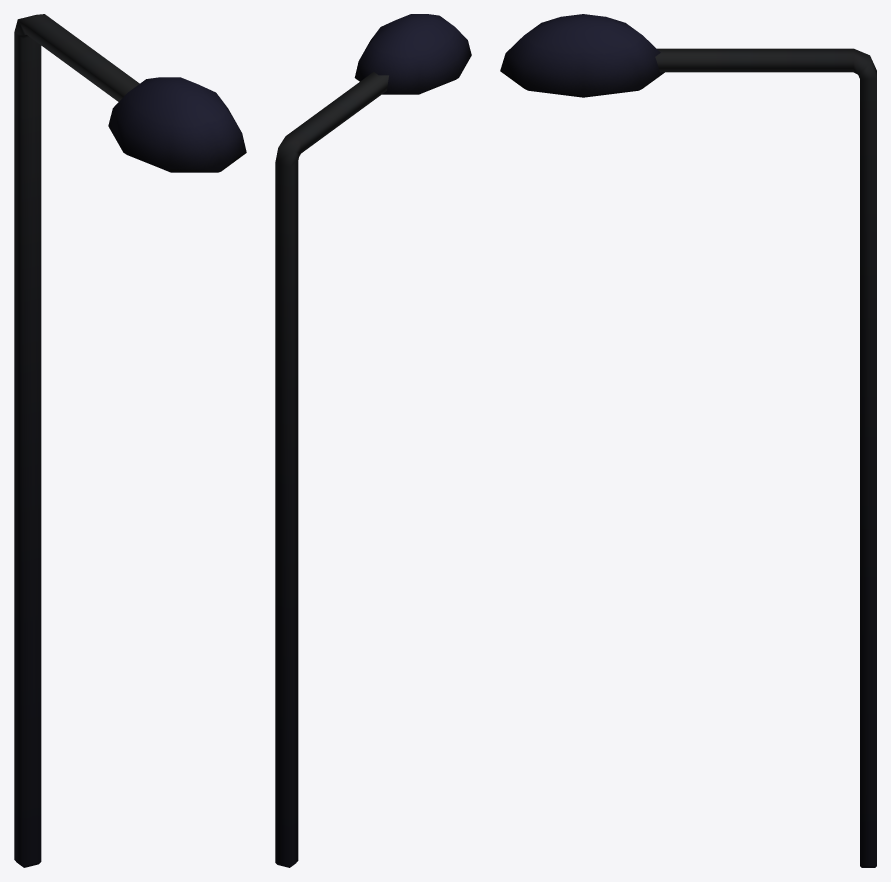
The model's file is mesh_streetLight.fbx.
The picture shows the model from 3 angles, left to right: view 1: azimuth 30°, elevation 25°; view 2: azimuth 150°, elevation 25°; view 3: azimuth 270°, elevation 25°; orthographic projection. The views are drawn at different scales.
Parts seen in each view (by area): view 1: mesh_streetLight; view 2: mesh_streetLight; view 3: mesh_streetLight.
Boxes of the visible parts, x1=… form: mesh_streetLight: x1=14, y1=14, x2=246, y2=867; mesh_streetLight: x1=275, y1=14, x2=471, y2=867; mesh_streetLight: x1=500, y1=14, x2=876, y2=867.
Size of the model in its own units: 64.05 by 502 by 203.
